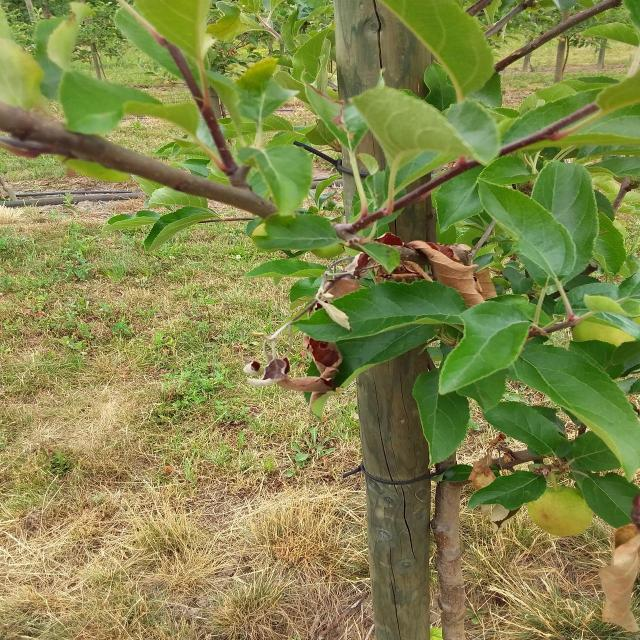-FireBlight-: (326, 214, 499, 310), (270, 299, 336, 413)
